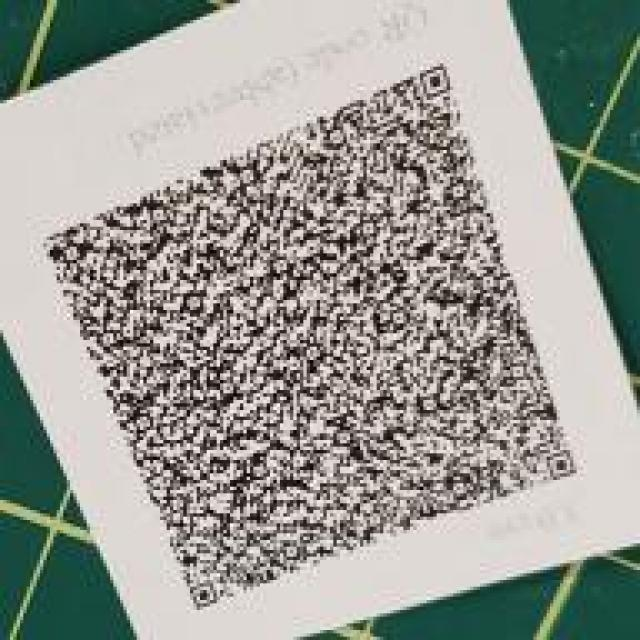QR_CODE: (23, 55, 590, 627)
